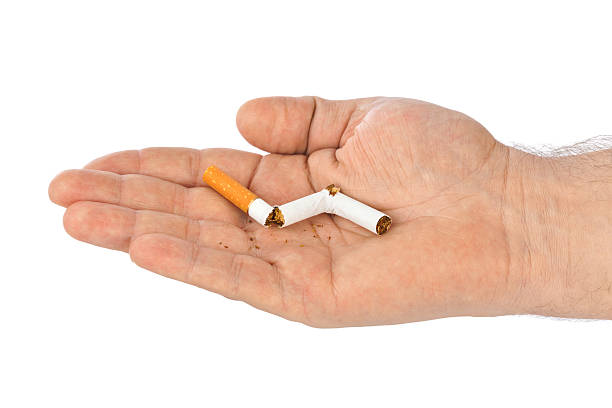cigarette: (275, 185, 393, 236), (203, 164, 276, 229)
